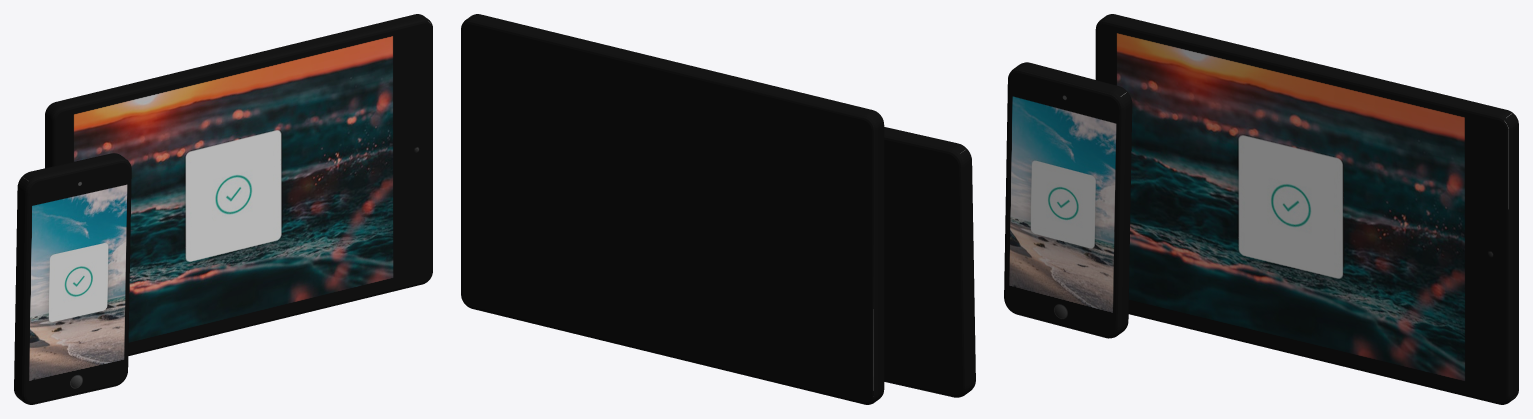
File: tablet.gltf
The picture shows the model from 3 angles, left to right: view 1: azimuth 30°, elevation 25°; view 2: azimuth 150°, elevation 25°; view 3: azimuth 330°, elevation 25°; orthographic projection. The views are drawn at different scales.
Visible parts, largest first — view 1: tablet, phone; view 2: tablet, phone; view 3: tablet, phone.
Boxes of the visible parts, x1,y1,x2,y2 form: tablet: [45, 14, 432, 355]; phone: [14, 153, 131, 404]; tablet: [461, 14, 884, 404]; phone: [884, 127, 975, 397]; tablet: [1095, 14, 1518, 404]; phone: [1004, 62, 1132, 338].
Bounding box in the file's own units: 5.75 × 3.34 × 0.8324.
Materials: 2 (2 with a texture image).
